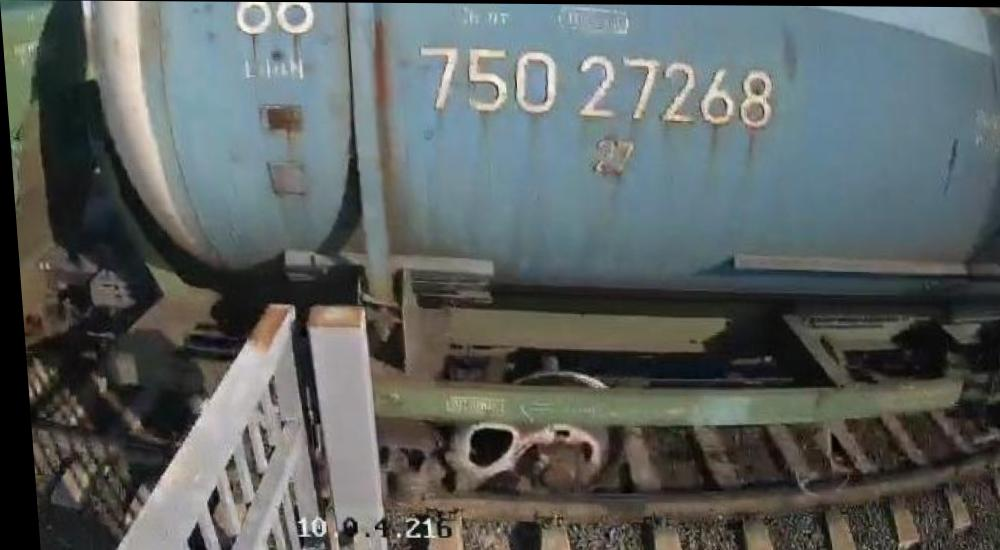Wagon-number: (414, 36, 781, 132)
